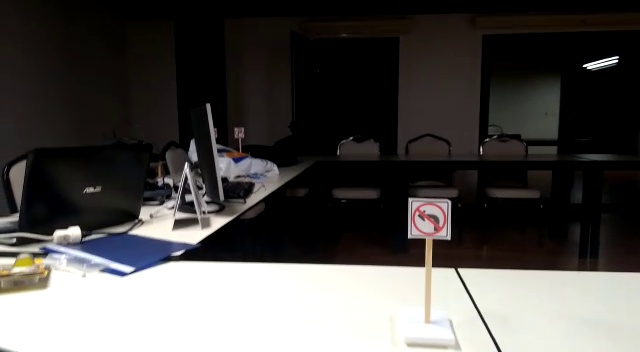sola_donulmez: (408, 201, 451, 236)
